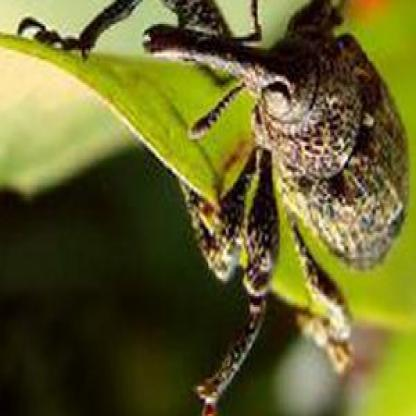rice-bug: (143, 0, 409, 281)
